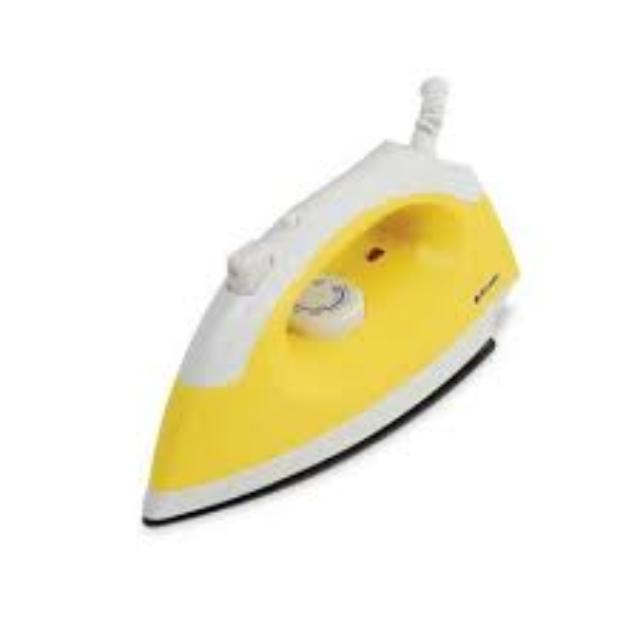Clothes-Iron: (158, 142, 497, 536)
